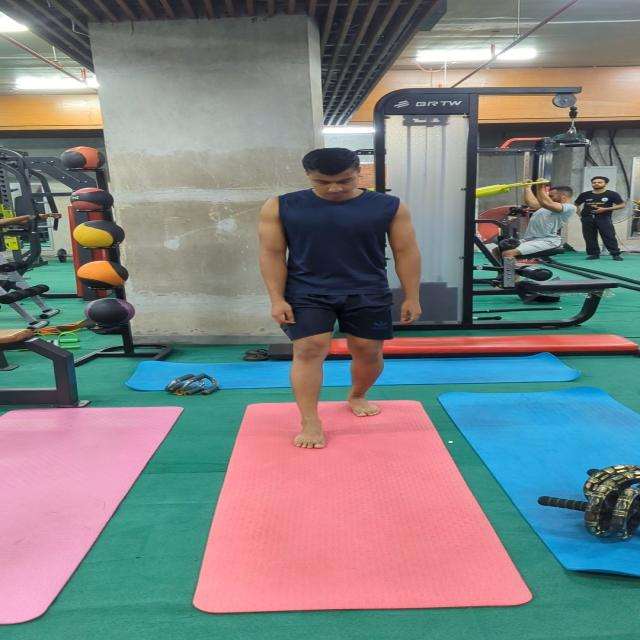Normal_Lunges: (236, 148, 436, 455)
